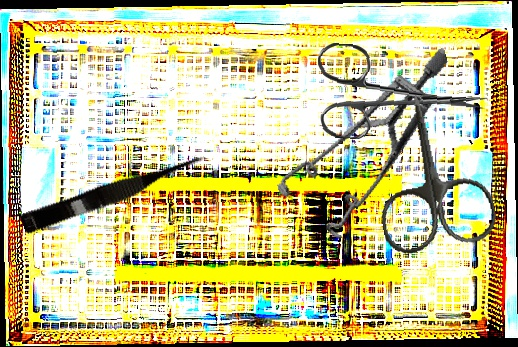Iris Scissors: (361, 84, 500, 258), (312, 42, 491, 148)
Micro Scissor: (19, 148, 210, 240)
Speculum: (253, 47, 487, 252)
